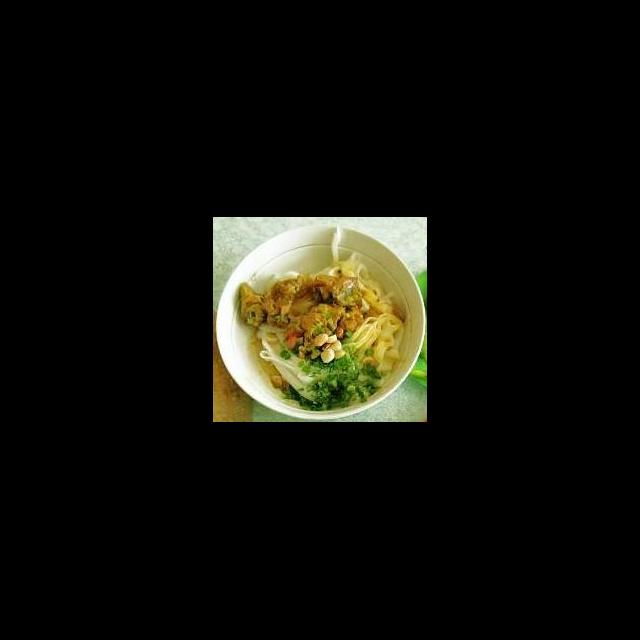mi: (253, 324, 328, 402), (341, 308, 407, 376), (336, 252, 397, 316)
